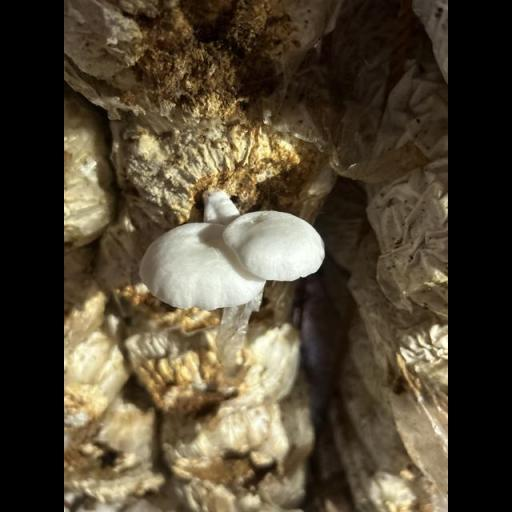White Oyster Mushroom: (142, 200, 327, 311)
